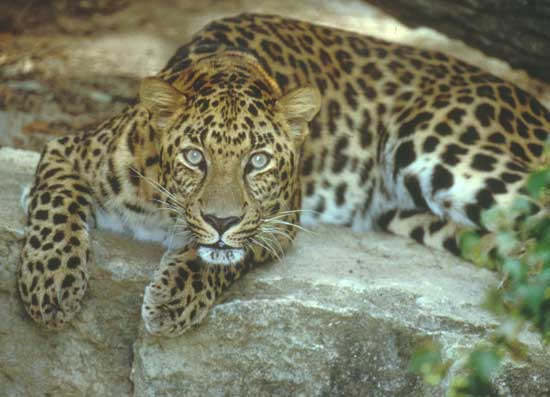amur_leopard: (111, 63, 364, 275)
